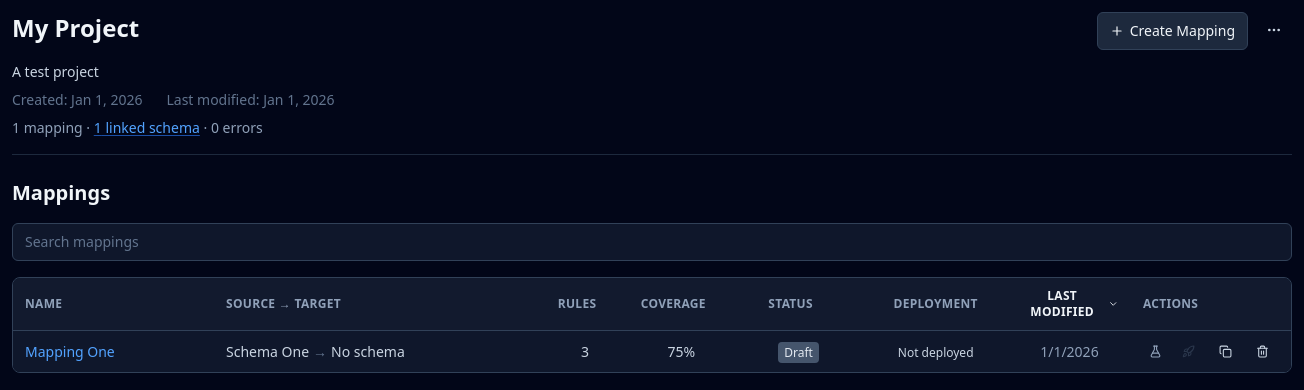
Test case: ProjectOverviewPage — layout checks › AE-16: overflow menu opens and contains expected items
Click the button with test id "project-overflow-menu-trigger".
click(1274, 30)  # box [1256,18,1292,42]
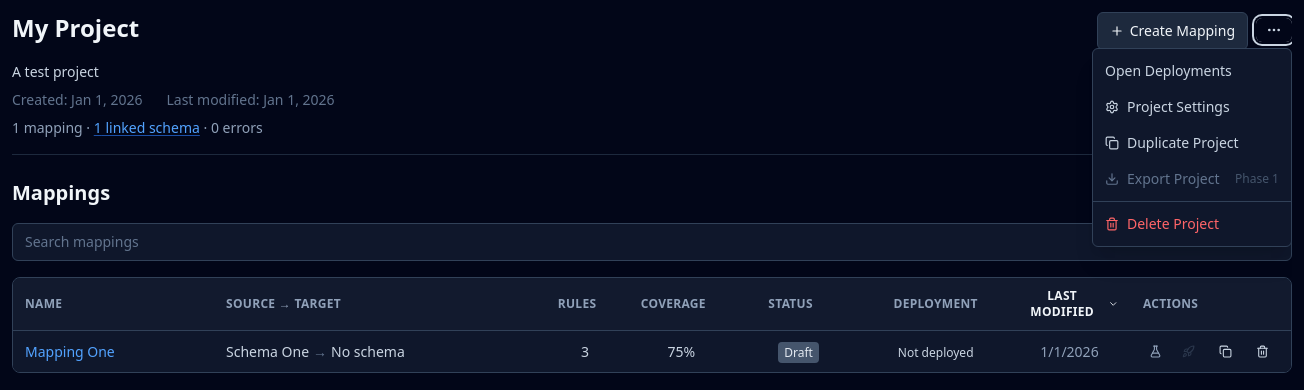
Expected: the menu with test id "project-overflow-menu" is shown, [1092,48,1292,247]
Expected: the menu item "Open Deployments" is shown, [1093,53,1291,89]
Expected: the menu item "Project Settings" is shown, [1093,89,1291,125]
